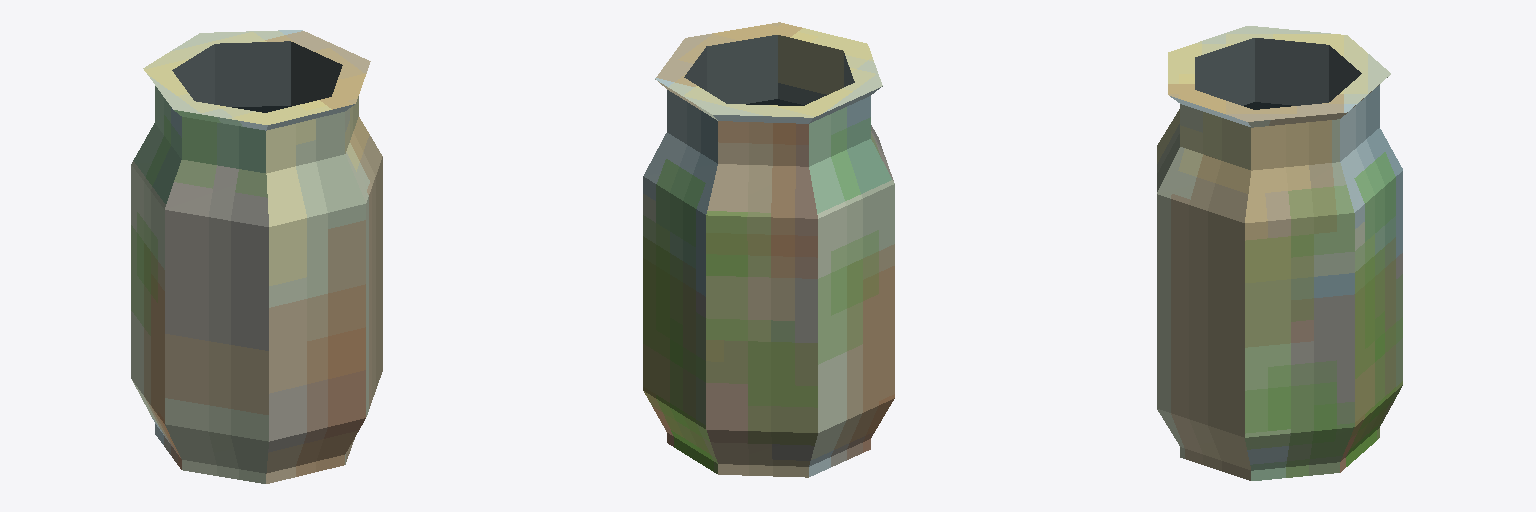
The picture shows the model from 3 angles: view 1: azimuth 30°, elevation 25°; view 2: azimuth 150°, elevation 25°; view 3: azimuth 270°, elevation 25°; orthographic projection.
Parts seen in each view (by area): view 1: Vase2; view 2: Vase2; view 3: Vase2.
Part boxes in pixels (x1,y1,x2,y2): Vase2: (131,30,382,483); Vase2: (643,22,894,477); Vase2: (1157,26,1402,480).
Bounding box in the file's own units: 0.333 × 0.5312 × 0.3262.
1 materials, 1 textured.